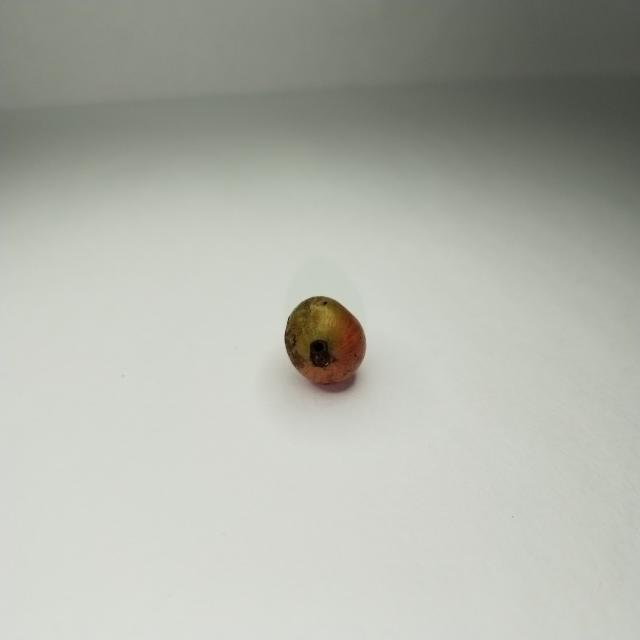Infectado: (284, 296, 367, 387)
